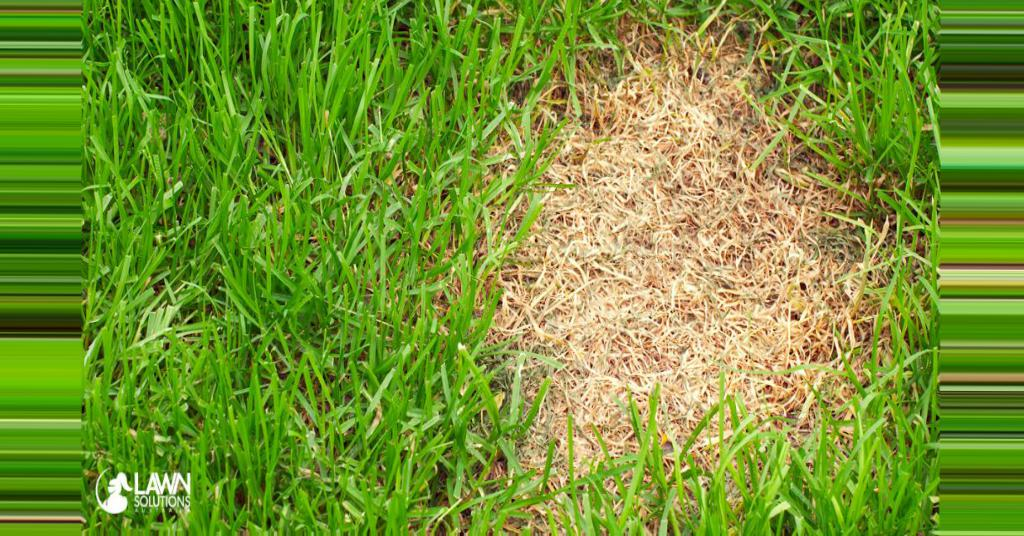patch: (532, 84, 791, 432)
